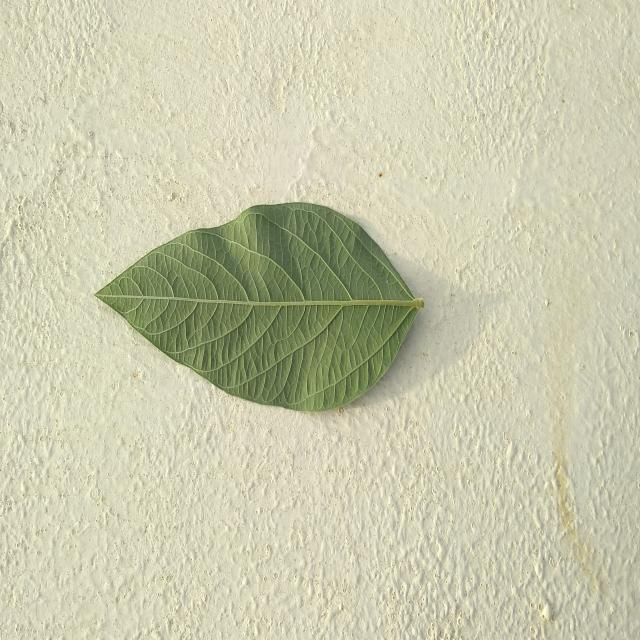pea: (96, 202, 424, 412)
